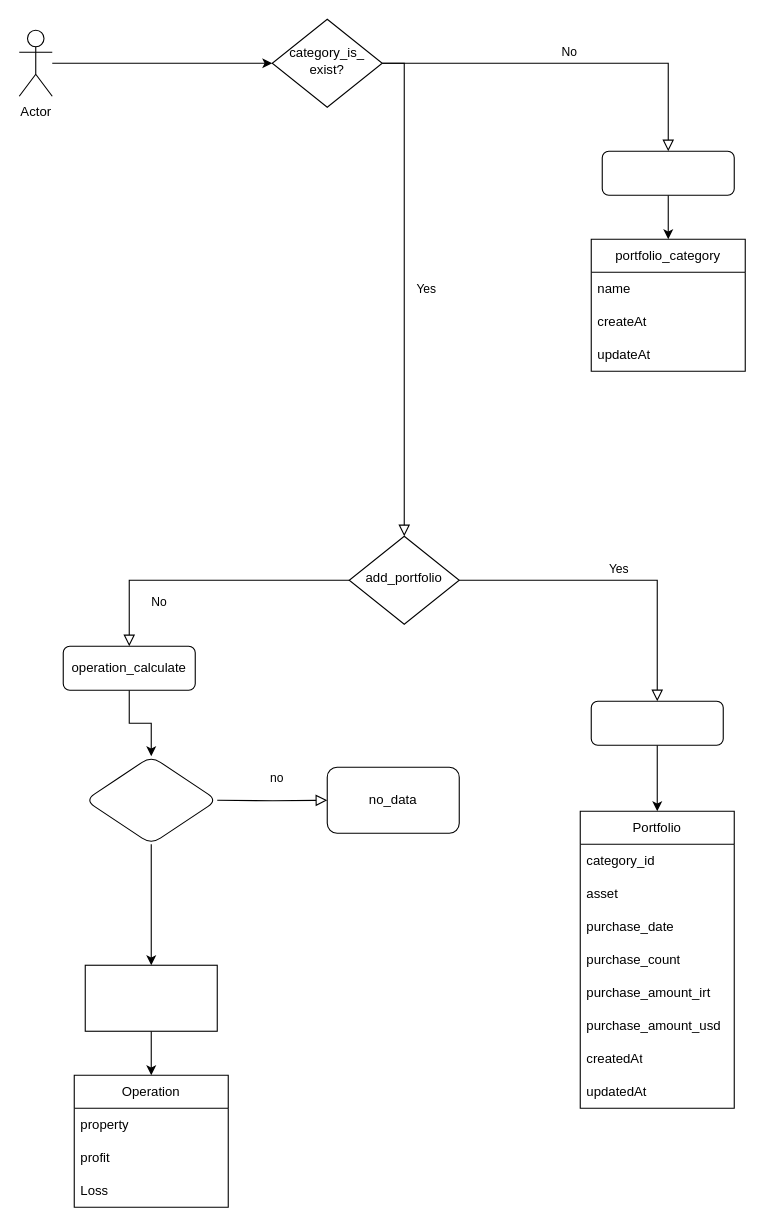
This 765x1227 diagram has some shape labels left out. Each missing label, with the centre of its shape:
"Create_category" belongs at point (667, 172).
"create_portfolio" belongs at point (656, 722).
"is_Data" belongs at point (150, 799).
"now Amount - purchase_amount" belongs at point (150, 997).
